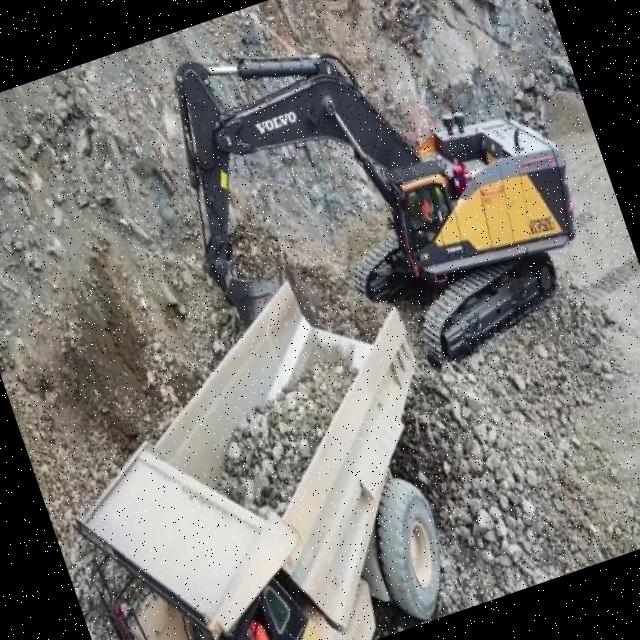Dump Truck: (14, 243, 498, 640)
Excavator: (135, 0, 617, 433)
